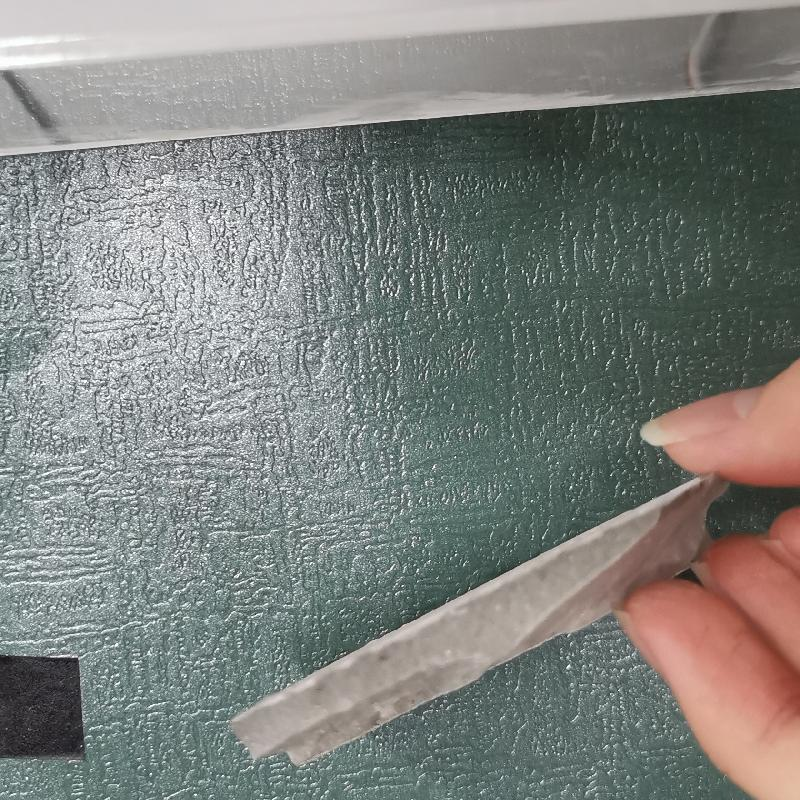tile: (231, 471, 734, 772)
